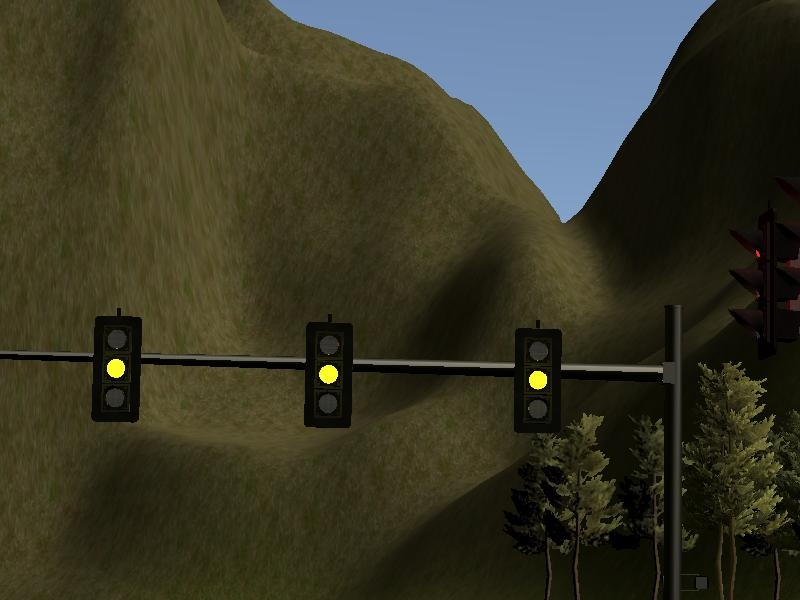YELLOW: (90, 314, 142, 425), (302, 319, 354, 430), (512, 323, 564, 434)
